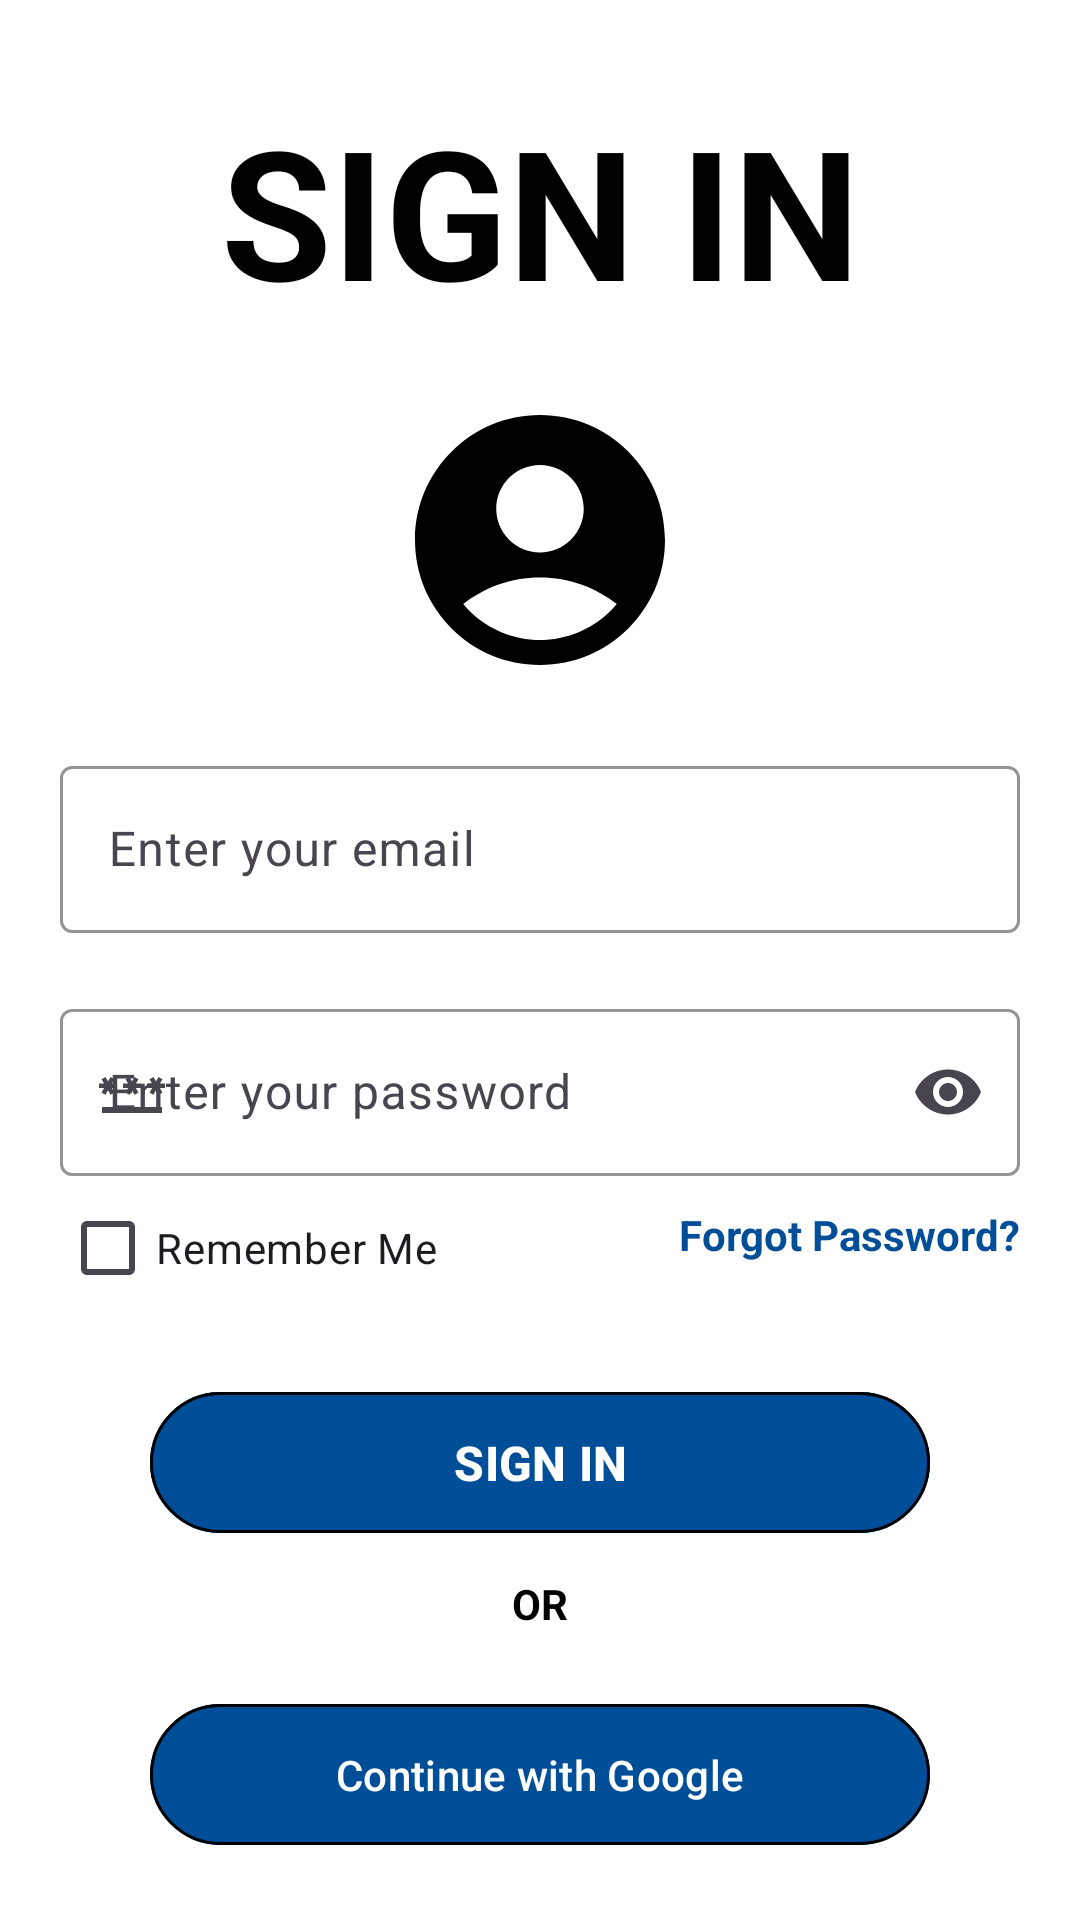

Where to tap for icons on this 1080px x 1920px app screen, as (x,y):
account circle: (540,540)
